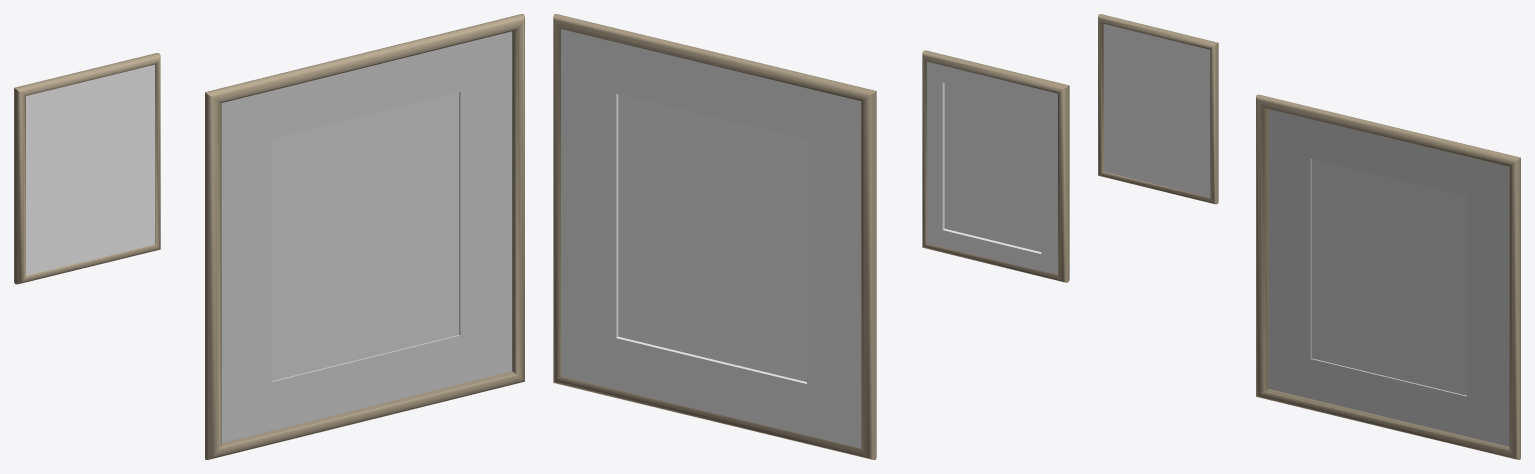
File: CGT_Artwork_44_01.glb
3 renders of one model, left to right at view 1: azimuth 30°, elevation 25°; view 2: azimuth 150°, elevation 25°; view 3: azimuth 330°, elevation 25°, orthographic. The views are drawn at different scales.
Parts seen in each view (by area): view 1: CGT_Artwork_44_01; view 2: CGT_Artwork_44_01; view 3: CGT_Artwork_44_01.
Boxes of the visible parts, box(x1,y1,x2,y2) form: CGT_Artwork_44_01: box(14, 14, 524, 459); CGT_Artwork_44_01: box(553, 14, 1069, 459); CGT_Artwork_44_01: box(1098, 14, 1520, 459).
Bounding box in the file's own units: 1.53 × 1.19 × 0.0441.
